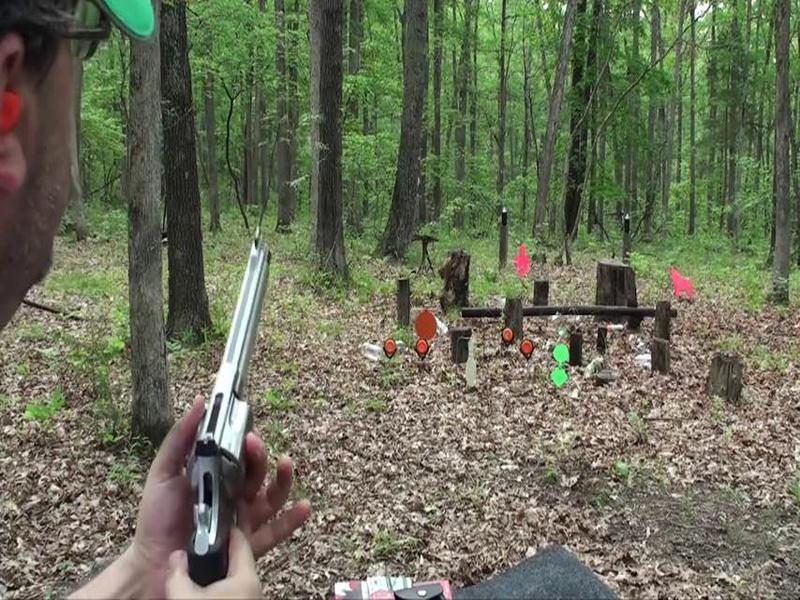Revolver: (133, 224, 359, 590)
